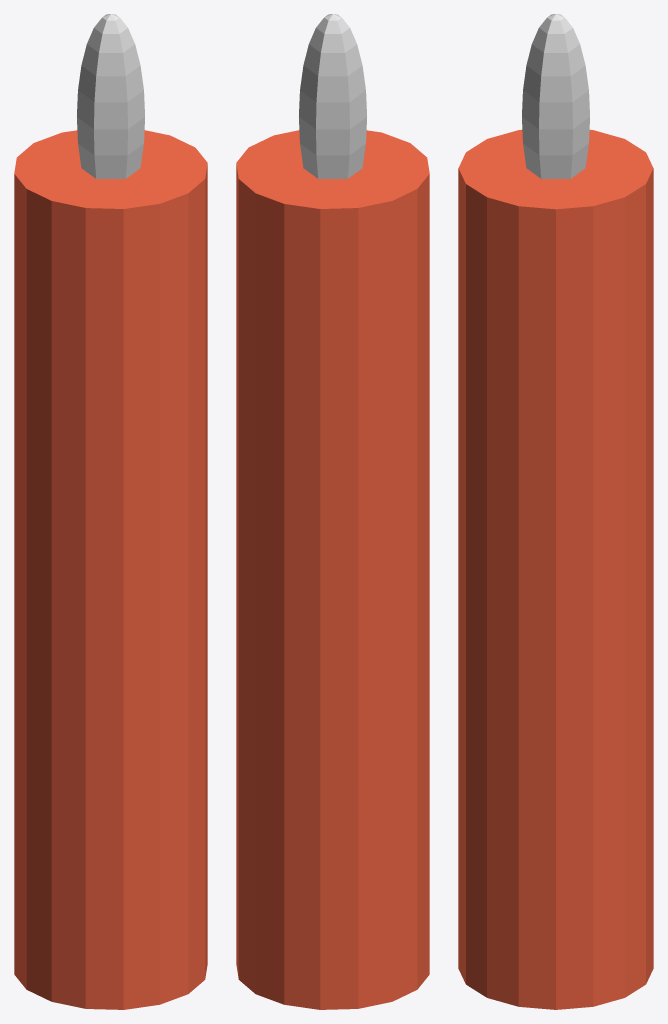
The model's file is Candle_red.fbx.
The picture shows the model from 3 angles, left to right: view 1: azimuth 30°, elevation 25°; view 2: azimuth 150°, elevation 25°; view 3: azimuth 270°, elevation 25°; orthographic projection.
Parts seen in each view (by area): view 1: Candle.003, Candle.F.002; view 2: Candle.003, Candle.F.002; view 3: Candle.003, Candle.F.002.
Boxes of the visible parts, box(x1,y1,x2,y2) form: Candle.003: box(14, 130, 207, 1009); Candle.F.002: box(77, 14, 144, 178); Candle.003: box(236, 130, 429, 1009); Candle.F.002: box(299, 14, 366, 178); Candle.003: box(458, 129, 653, 1009); Candle.F.002: box(522, 14, 589, 178).
Bounding box in the file's own units: 44.16 × 239 × 44.16.
